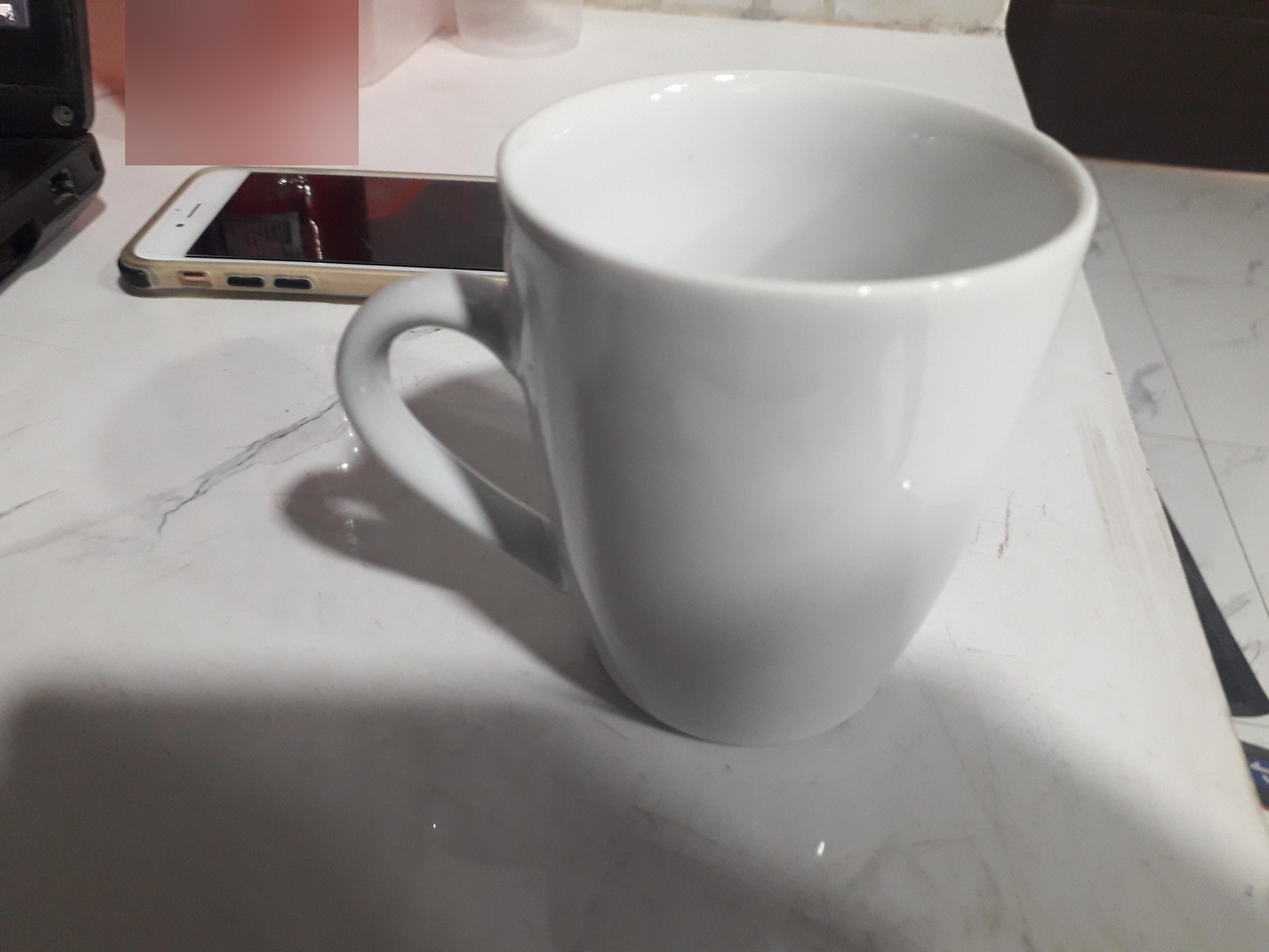cup-handle: (334, 73, 1101, 745)
